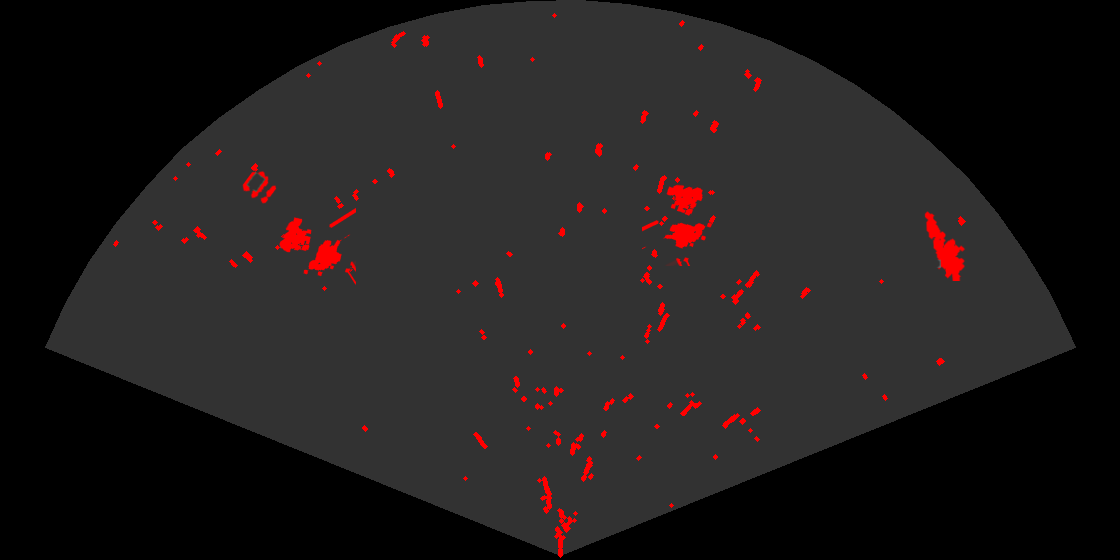ball: (241, 169, 278, 205)
cage: (278, 206, 356, 286), (642, 183, 714, 266)
frogman: (923, 210, 967, 281)
